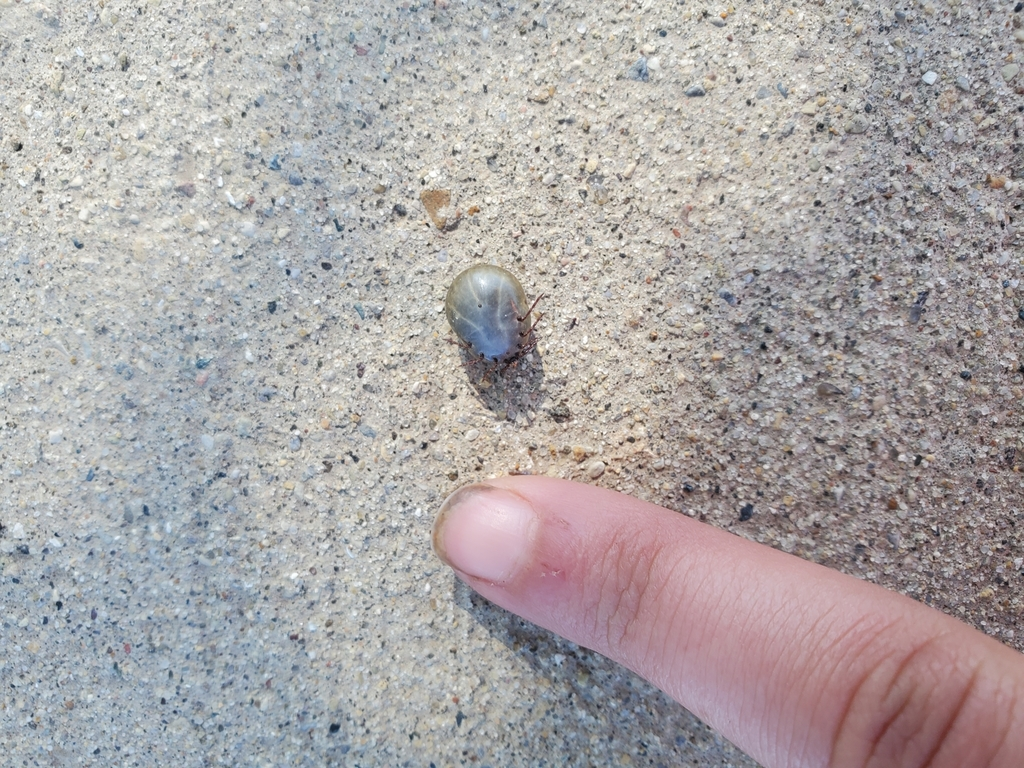garrapata: (437, 260, 553, 383)
